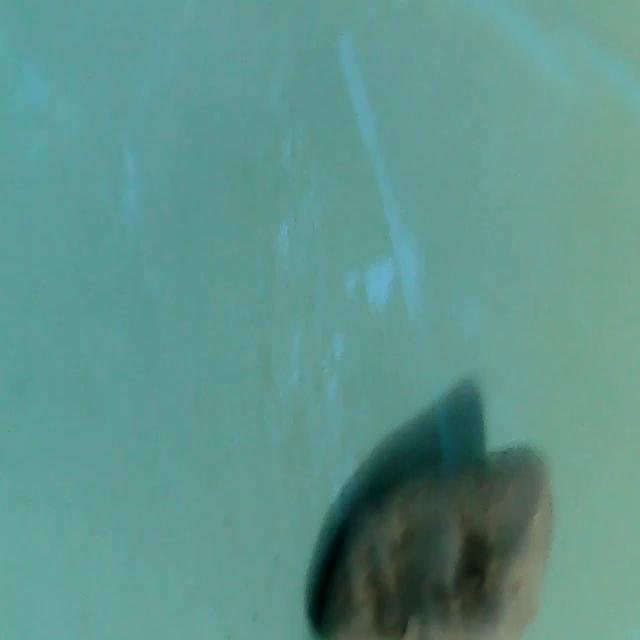rock: (301, 434, 563, 640)
